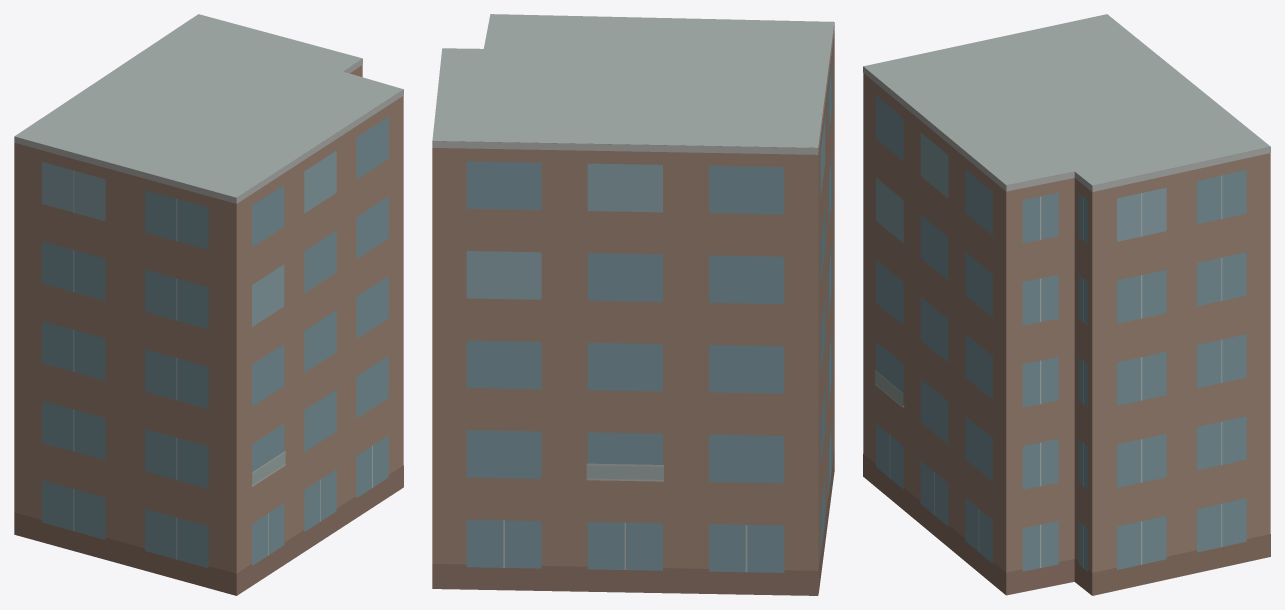
File: survey-upis-32837293.glb
The picture shows the model from 3 angles, left to right: view 1: azimuth 30°, elevation 25°; view 2: azimuth 150°, elevation 25°; view 3: azimuth 270°, elevation 25°; orthographic projection. The views are drawn at different scales.
Visible parts, largest first — view 1: survey-upis-32837293.tmp; view 2: survey-upis-32837293.tmp; view 3: survey-upis-32837293.tmp.
Part boxes in pixels (x1=…): survey-upis-32837293.tmp: x1=14, y1=14, x2=403, y2=595; survey-upis-32837293.tmp: x1=432, y1=14, x2=834, y2=595; survey-upis-32837293.tmp: x1=863, y1=14, x2=1270, y2=595.
Size of the model in its own units: 14.01 by 15.6 by 14.06.
